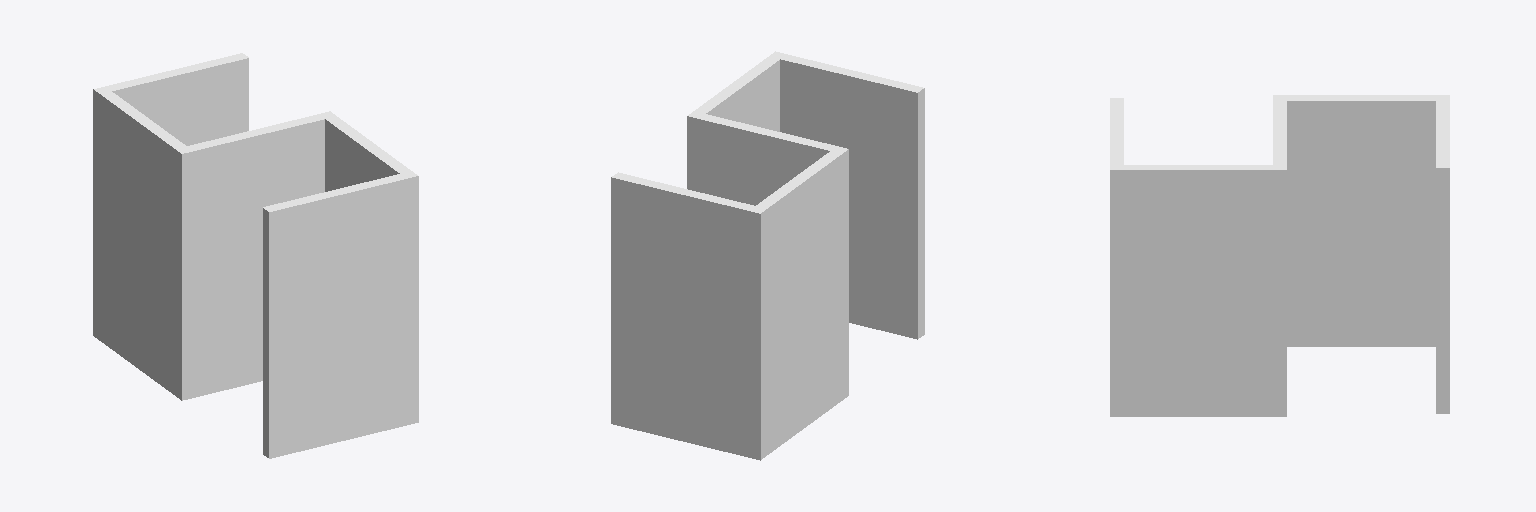
3 views of the same model, side by side, from view 1: azimuth 30°, elevation 25°; view 2: azimuth 150°, elevation 25°; view 3: azimuth 270°, elevation 25° (orthographic).
Visible parts, largest first — view 1: wall_5_27, wall_3_16, wall_2_10, wall_1_3, wall_4_22, wall_5_28; view 2: wall_1_4, wall_5_28, wall_2_10, wall_3_15, wall_4_22, wall_5_27; view 3: wall_4_21, wall_2_9, wall_1_3, wall_1_4.
Boxes of the visible parts, x1=… form: wall_5_27: x1=266, y1=176, x2=418, y2=458; wall_3_16: x1=182, y1=119, x2=324, y2=400; wall_2_10: x1=93, y1=89, x2=181, y2=400; wall_1_3: x1=112, y1=58, x2=248, y2=145; wall_4_22: x1=325, y1=119, x2=399, y2=191; wall_5_28: x1=263, y1=208, x2=265, y2=455; wall_1_4: x1=611, y1=177, x2=760, y2=460; wall_5_28: x1=780, y1=59, x2=920, y2=339; wall_2_10: x1=761, y1=149, x2=848, y2=459; wall_3_15: x1=687, y1=116, x2=829, y2=205; wall_4_22: x1=706, y1=60, x2=779, y2=131; wall_5_27: x1=921, y1=88, x2=924, y2=336; wall_4_21: x1=1110, y1=170, x2=1286, y2=416; wall_2_9: x1=1287, y1=101, x2=1435, y2=346; wall_1_3: x1=1436, y1=168, x2=1442, y2=413; wall_1_4: x1=1443, y1=168, x2=1449, y2=413.
Size of the model in its own units: 100 by 152 by 190.